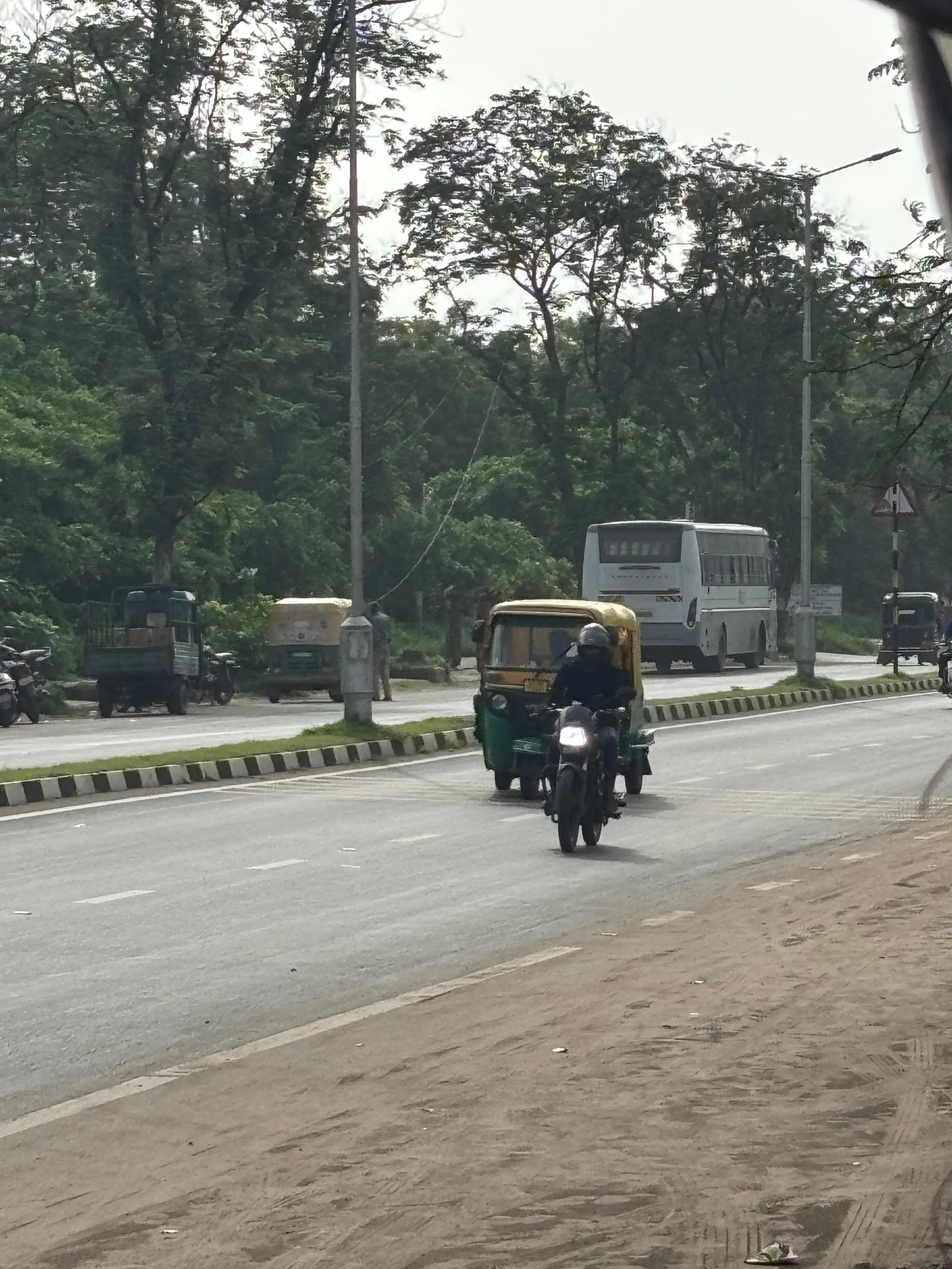BikeWithRider: (522, 621, 636, 852)
Helmet: (576, 622, 610, 670)
